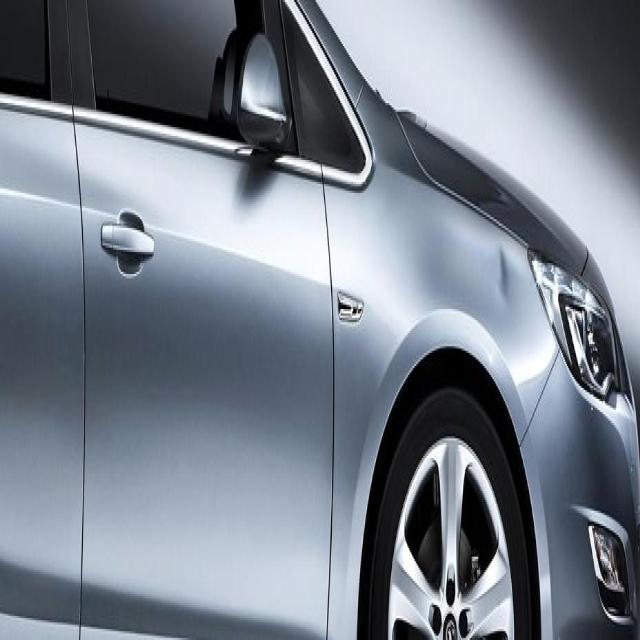dent: (496, 243, 512, 309)
